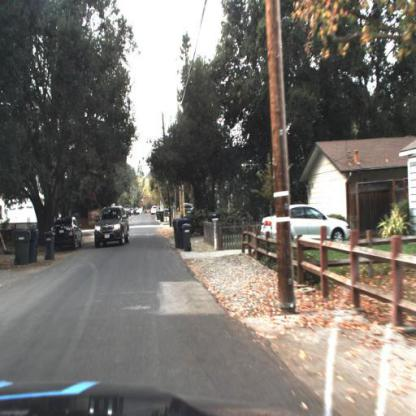car: (258, 204, 352, 241), (92, 205, 130, 247), (51, 215, 80, 251), (176, 202, 194, 216), (149, 204, 159, 215)
